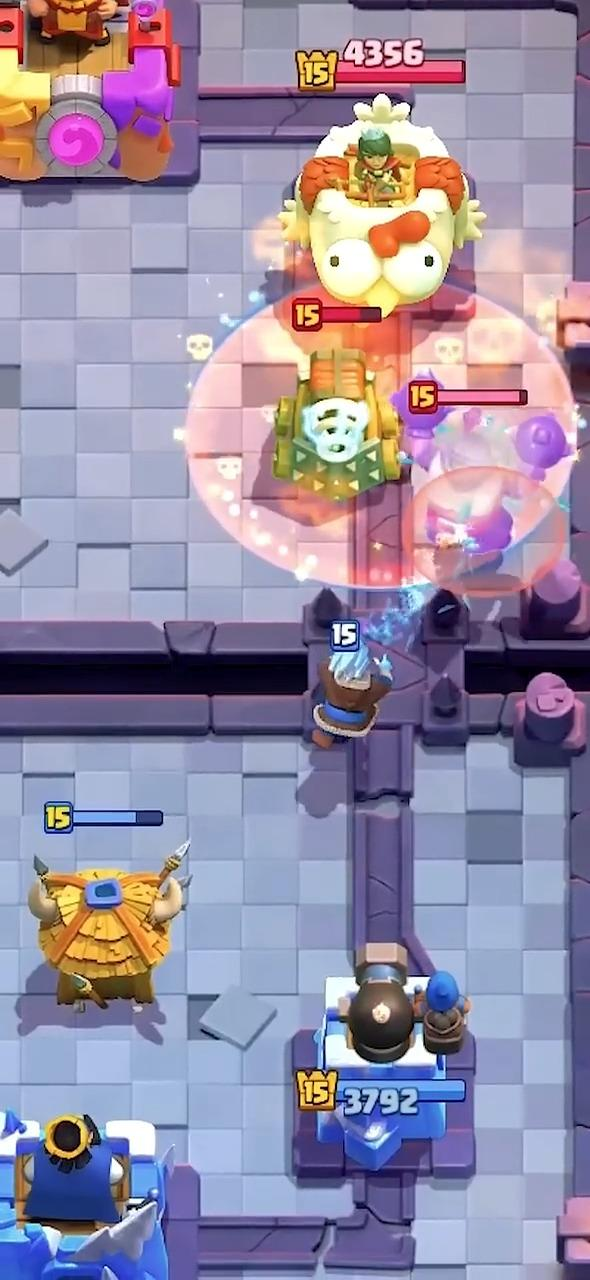goblin hut: (28, 841, 189, 1010)
ice wizard: (312, 642, 391, 748)
mega knight: (391, 372, 572, 559)
poison: (185, 300, 416, 594), (348, 272, 572, 421)
sparky: (275, 351, 400, 502)
